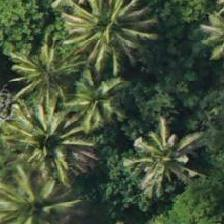coconut_tree: (45, 55, 135, 145), (121, 113, 211, 203), (1, 96, 91, 186), (0, 28, 87, 118), (65, 0, 155, 73), (0, 161, 69, 223)
